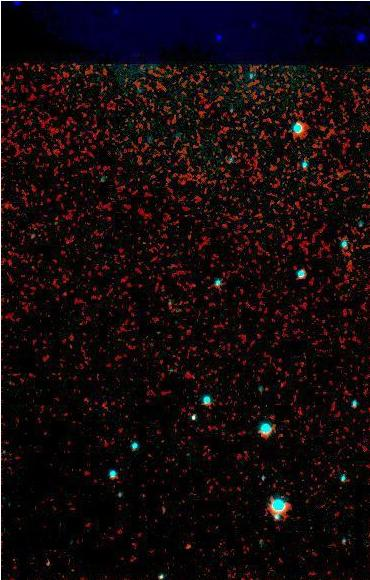star: (175, 532, 205, 562)
